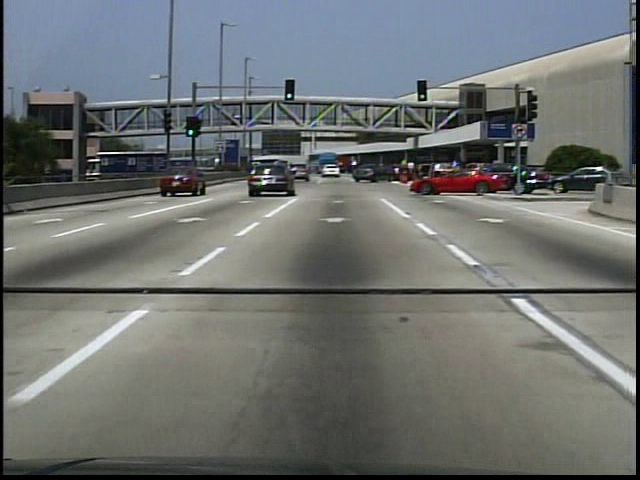person: (407, 161, 417, 184), (434, 163, 442, 180), (230, 116, 239, 131)
